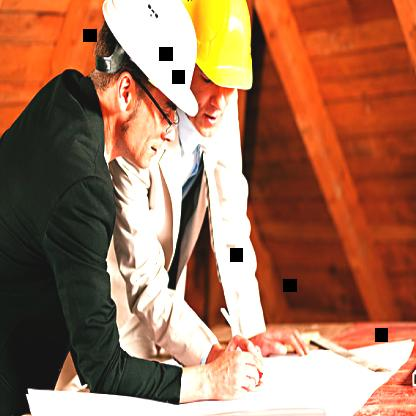helmet: (84, 0, 236, 172), (156, 0, 264, 154)
